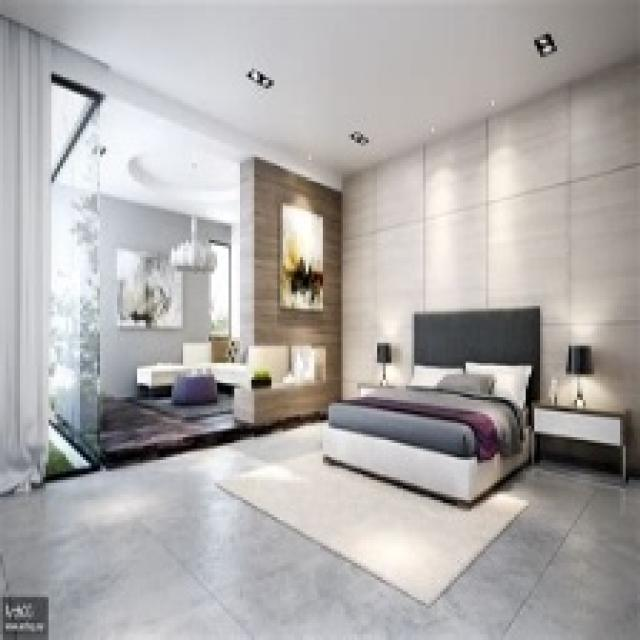Bed: (320, 303, 540, 506)
